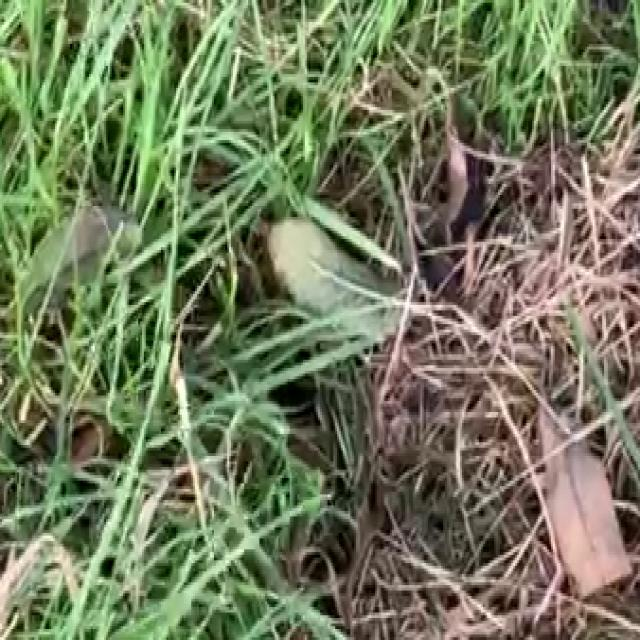organic waste: (207, 118, 560, 489), (2, 154, 237, 412)
